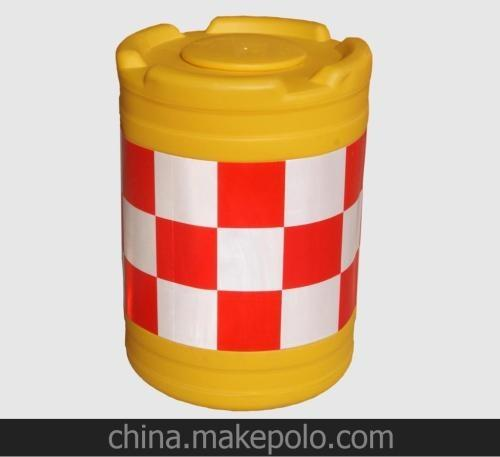cone_barrel: (115, 13, 375, 410)
